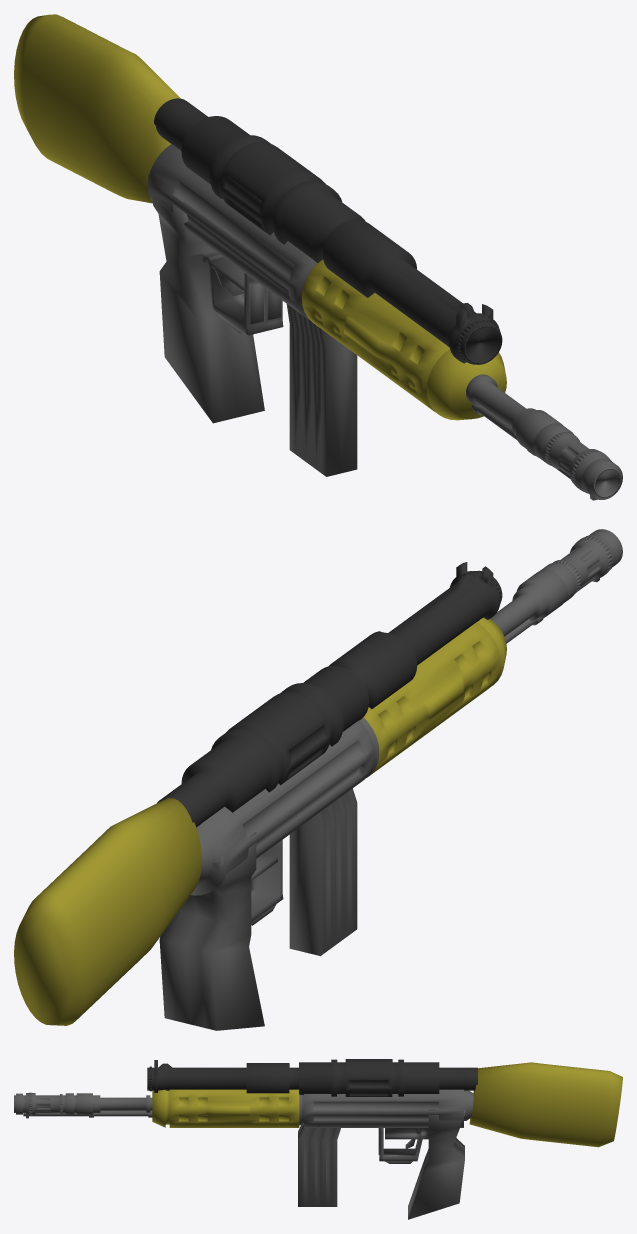
The model's file is HKG3.fbx.
3 views of the same model, one above another, from view 1: azimuth 30°, elevation 25°; view 2: azimuth 150°, elevation 25°; view 3: azimuth 270°, elevation 25° (orthographic). The views are drawn at different scales.
Visible parts, largest first — view 1: Objek HKG 4, Objek HKG 2, Objek HKG 6, Objek HKG 7, Objek HKG 5, Objek HKG 1; view 2: Objek HKG 6, Objek HKG 4, Objek HKG 2, Objek HKG 7, Objek HKG 5, Objek HKG 1; view 3: Objek HKG 2, Objek HKG 6, Objek HKG 4, Objek HKG 7, Objek HKG 5, Objek HKG 1, Objek HKG 3.
Boxes of the visible parts, box(x1,y1,x2,y2) form: Objek HKG 4: box(154, 98, 502, 364); Objek HKG 2: box(147, 144, 506, 420); Objek HKG 6: box(14, 14, 180, 203); Objek HKG 7: box(148, 175, 283, 423); Objek HKG 5: box(286, 304, 357, 476); Objek HKG 1: box(466, 374, 622, 500); Objek HKG 6: box(14, 798, 201, 1025); Objek HKG 4: box(157, 562, 502, 827); Objek HKG 2: box(191, 617, 506, 895); Objek HKG 7: box(159, 832, 283, 1030); Objek HKG 5: box(289, 788, 357, 955); Objek HKG 1: box(490, 529, 622, 636); Objek HKG 2: box(152, 1089, 473, 1127); Objek HKG 6: box(469, 1062, 622, 1147); Objek HKG 4: box(147, 1059, 477, 1096); Objek HKG 7: box(378, 1109, 465, 1219); Objek HKG 5: box(298, 1125, 340, 1206); Objek HKG 1: box(14, 1092, 152, 1118); Objek HKG 3: box(23, 1110, 152, 1117).
Bounding box in the file's own units: 55.47 × 174 × 631.
